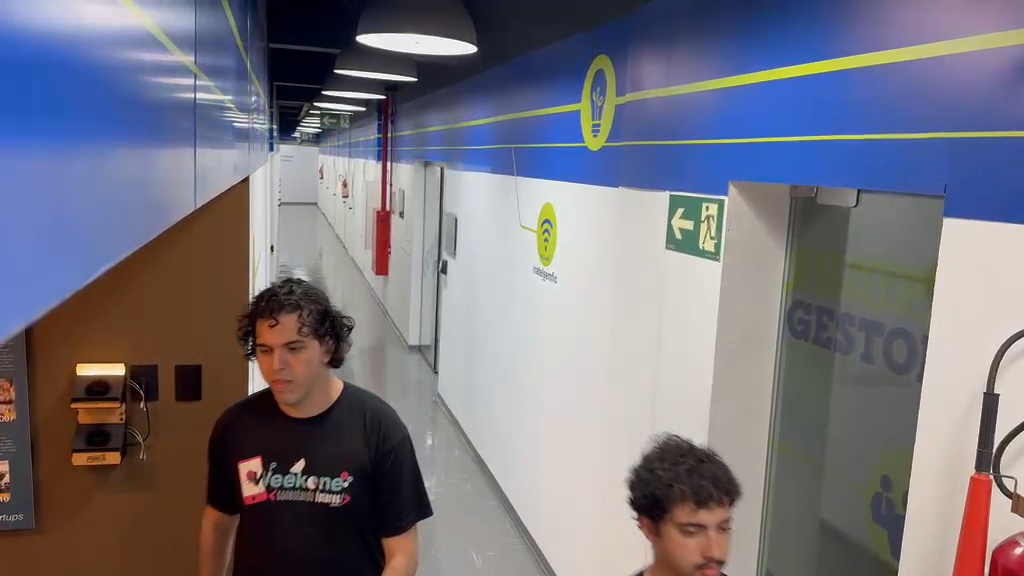person: (198, 277, 434, 573), (624, 432, 741, 575)
